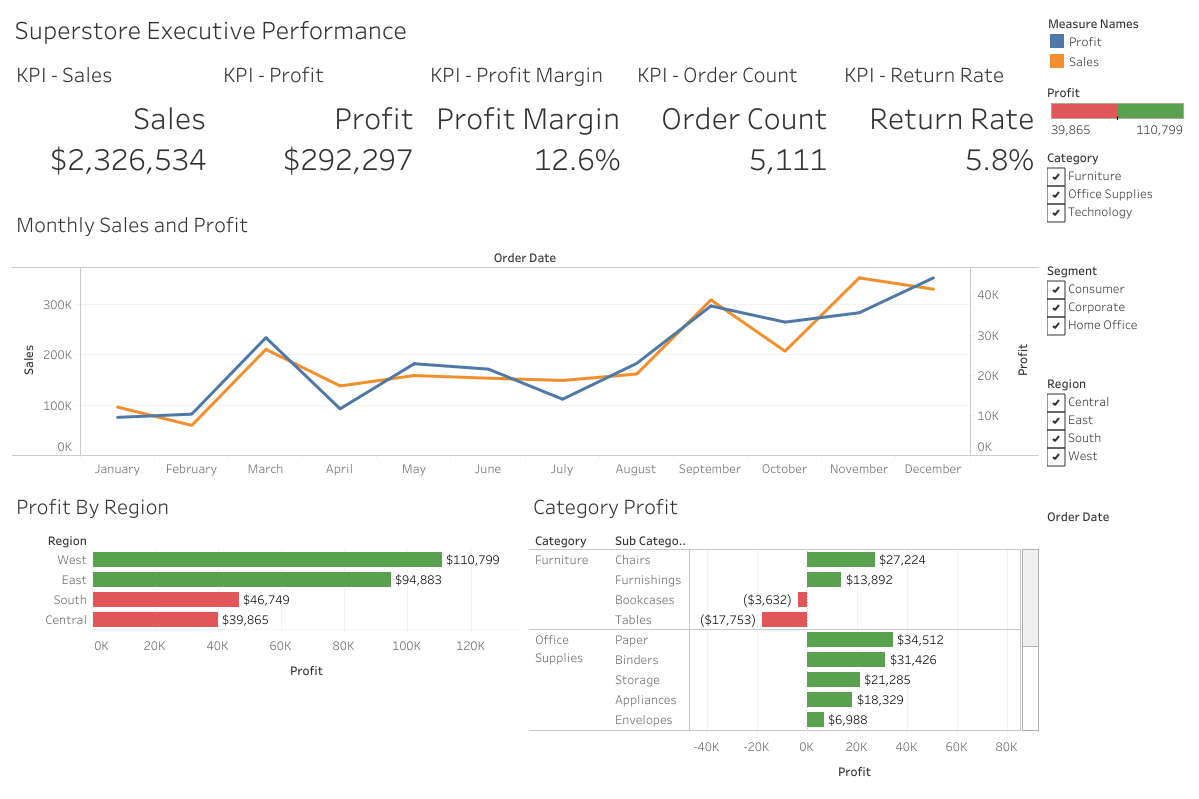

The page's visual inventory and layout, read from the dashboard file:
{"tool":"tableau","page":{"name":"Executive Performance","canvas":[1200,800],"ordinal":1},"visuals":[{"type":"title","box":[8,8,1035,42]},{"type":"legend","title":"Monthly Trend","param":"[federated.0x1j8qj0gogspi17l3nct066p57f].[:Measure Names]","box":[1043,8,149,66]},{"type":"worksheet","title":"KPI - Sales","mark":"Automatic","box":[8,50,207,150]},{"type":"worksheet","title":"KPI - Profit","mark":"Automatic","box":[215,50,207,150]},{"type":"worksheet","title":"KPI - Profit Margin","mark":"Automatic","box":[422,50,207,150]},{"type":"worksheet","title":"KPI - Order Count","mark":"Automatic","box":[629,50,207,150]},{"type":"worksheet","title":"KPI - Return Rate","mark":"Automatic","box":[836,50,207,150]},{"type":"legend","title":"Profit By Region","param":"[federated.0x1j8qj0gogspi17l3nct066p57f].[sum:profit:qk]","box":[1043,74,149,65]},{"type":"filter","title":"Category Profit","param":"[federated.0x1j8qj0gogspi17l3nct066p57f].[none:category:nk]","box":[1043,139,149,108]},{"type":"worksheet","title":"Monthly Trend","mark":"Line","rows":["sales","profit"],"cols":["order_date"],"box":[8,200,1035,282]},{"type":"filter","title":"Category Profit","param":"[federated.0x1j8qj0gogspi17l3nct066p57f].[none:segment:nk]","box":[1043,247,149,108]},{"type":"filter","title":"Category Profit","param":"[federated.0x1j8qj0gogspi17l3nct066p57f].[none:region:nk]","box":[1043,355,149,127]},{"type":"worksheet","title":"Profit By Region","mark":"Bar","rows":["region"],"cols":["profit"],"box":[8,482,517.5,310]},{"type":"worksheet","title":"Category Profit","mark":"Bar","rows":["category","sub_category"],"cols":["profit"],"box":[525.5,482,517.5,310]},{"type":"filter","title":"Category Profit","param":"[federated.0x1j8qj0gogspi17l3nct066p57f].[none:order_date:qk]","box":[1043,482,149,79]}]}

Visuals, with their boxes in screenshot pixels (x1, y1, x2, y2), scaled from the page's 1200x800 canvas onto the 1199x799 screenshot:
title: [x1=8, y1=8, x2=1042, y2=50]
"Monthly Trend" legend: [x1=1042, y1=8, x2=1191, y2=74]
"KPI - Sales" worksheet: [x1=8, y1=50, x2=215, y2=200]
"KPI - Profit" worksheet: [x1=215, y1=50, x2=422, y2=200]
"KPI - Profit Margin" worksheet: [x1=422, y1=50, x2=628, y2=200]
"KPI - Order Count" worksheet: [x1=628, y1=50, x2=835, y2=200]
"KPI - Return Rate" worksheet: [x1=835, y1=50, x2=1042, y2=200]
"Profit By Region" legend: [x1=1042, y1=74, x2=1191, y2=139]
"Category Profit" filter: [x1=1042, y1=139, x2=1191, y2=247]
"Monthly Trend" worksheet (Line marks): [x1=8, y1=200, x2=1042, y2=481]
"Category Profit" filter: [x1=1042, y1=247, x2=1191, y2=355]
"Category Profit" filter: [x1=1042, y1=355, x2=1191, y2=481]
"Profit By Region" worksheet (Bar marks): [x1=8, y1=481, x2=525, y2=791]
"Category Profit" worksheet (Bar marks): [x1=525, y1=481, x2=1042, y2=791]
"Category Profit" filter: [x1=1042, y1=481, x2=1191, y2=560]
